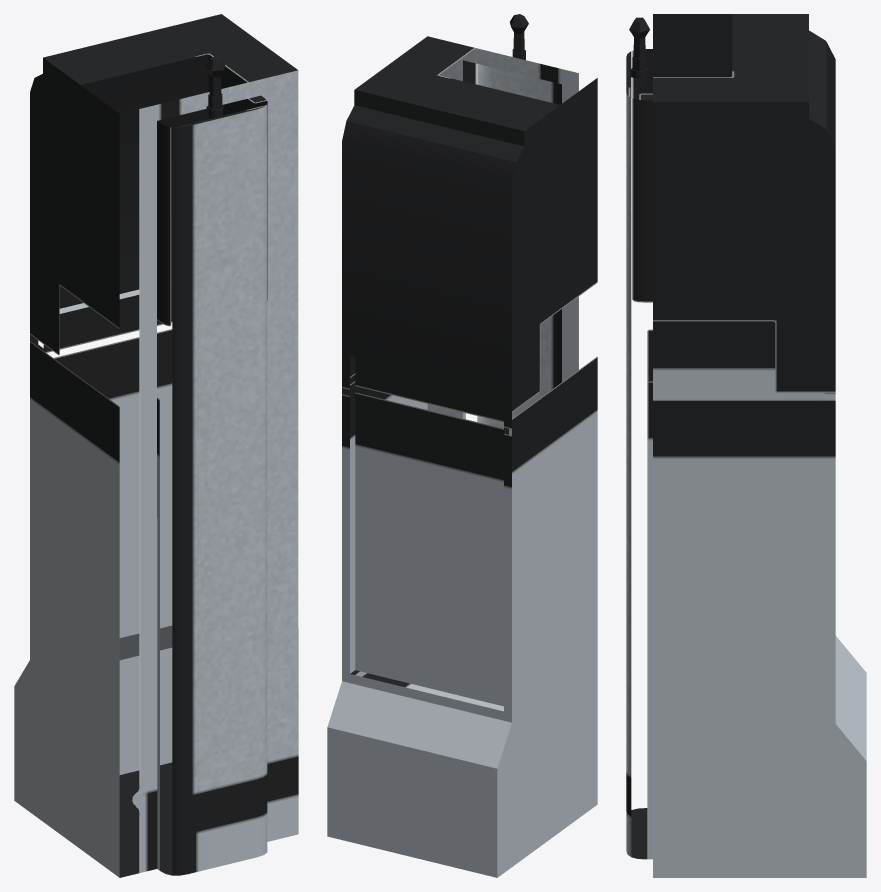
The model's file is talkie.fbx.
3 renders of one model, left to right at view 1: azimuth 30°, elevation 25°; view 2: azimuth 150°, elevation 25°; view 3: azimuth 270°, elevation 25°, orthographic. The views are drawn at different scales.
Visible parts, largest first — view 1: talki; view 2: talki; view 3: talki.
Boxes of the visible parts, x1,y1,x2,y2 form: talki: (14, 14, 298, 877); talki: (327, 14, 597, 877); talki: (626, 14, 866, 877).
Size of the model in its own units: 75 by 322 by 86.18.
